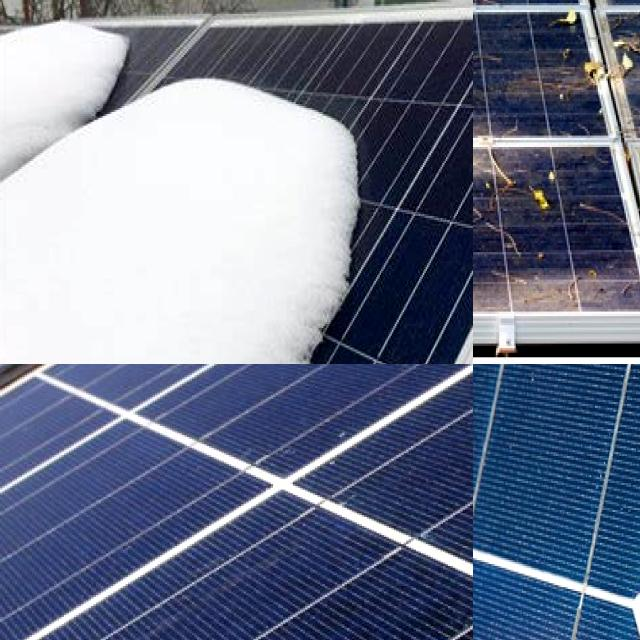crack: (0, 364, 473, 640), (473, 364, 640, 640)
panel: (241, 74, 337, 159), (343, 119, 386, 297), (274, 277, 350, 364), (138, 54, 222, 116), (52, 0, 141, 49), (76, 66, 126, 120)
